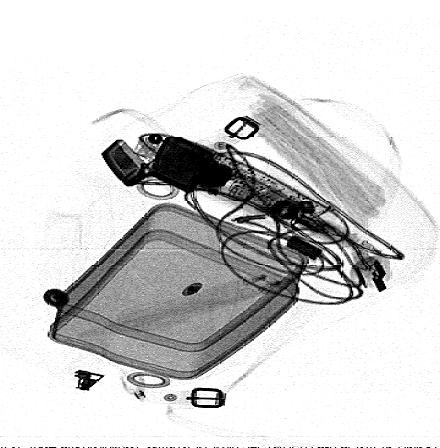Lighter: (99, 132, 216, 195)
